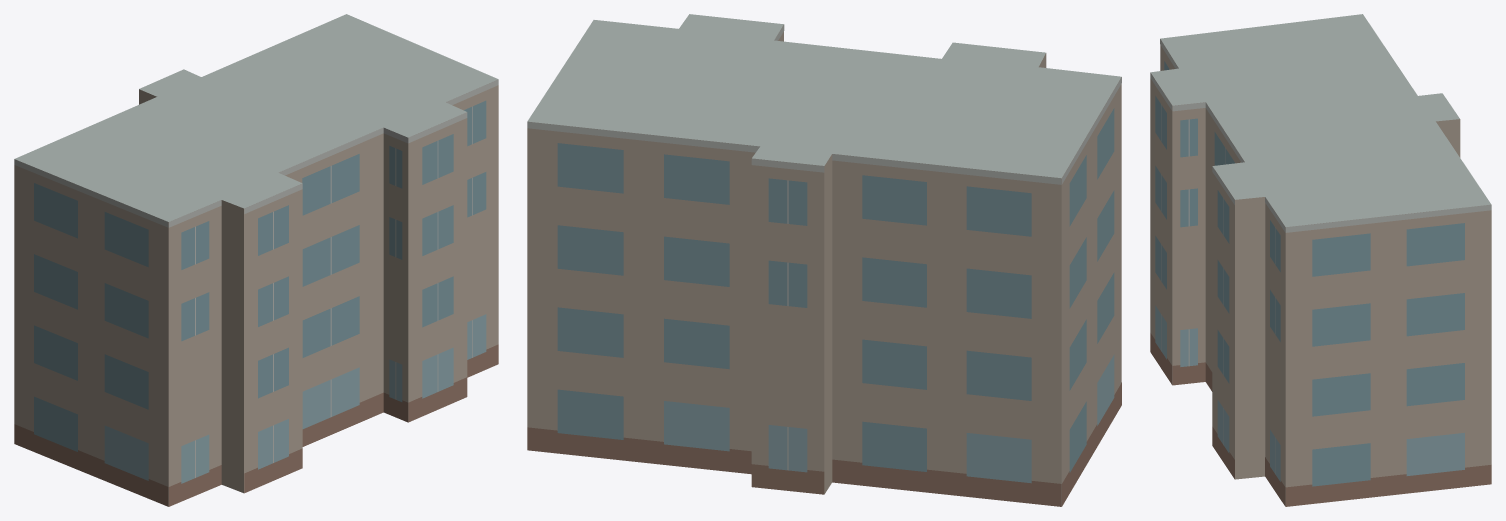
The model's file is survey-upis-32524377.glb.
The picture shows the model from 3 angles, left to right: view 1: azimuth 30°, elevation 25°; view 2: azimuth 150°, elevation 25°; view 3: azimuth 270°, elevation 25°; orthographic projection. The views are drawn at different scales.
Parts seen in each view (by area): view 1: survey-upis-32524377.tmp; view 2: survey-upis-32524377.tmp; view 3: survey-upis-32524377.tmp.
Boxes of the visible parts, x1,y1,x2,y2 form: survey-upis-32524377.tmp: (14,14,498,506); survey-upis-32524377.tmp: (527,14,1121,506); survey-upis-32524377.tmp: (1150,14,1491,506).
Bounding box in the file's own units: 19.63 × 12 × 13.28.
